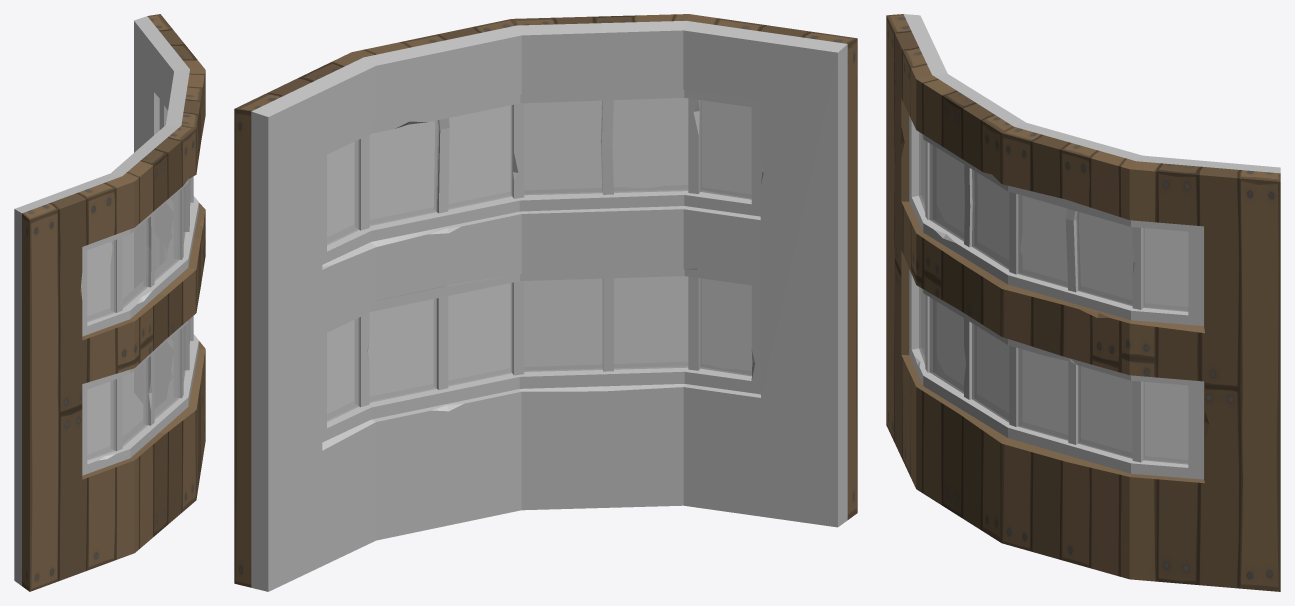
Rendered from SM_Bld_Deco_Wall_Window_06_Round_01.fbx.
The picture shows the model from 3 angles, left to right: view 1: azimuth 30°, elevation 25°; view 2: azimuth 150°, elevation 25°; view 3: azimuth 270°, elevation 25°; orthographic projection. The views are drawn at different scales.
Visible parts, largest first — view 1: SM_Bld_Deco_Wall_Window_06_Round_01; view 2: SM_Bld_Deco_Wall_Window_06_Round_01; view 3: SM_Bld_Deco_Wall_Window_06_Round_01.
Part boxes in pixels (bbox=[...]): SM_Bld_Deco_Wall_Window_06_Round_01: bbox=[14, 14, 205, 591]; SM_Bld_Deco_Wall_Window_06_Round_01: bbox=[234, 14, 857, 591]; SM_Bld_Deco_Wall_Window_06_Round_01: bbox=[886, 14, 1280, 591].
Bounding box in the file's own units: 261 × 301 × 261.
